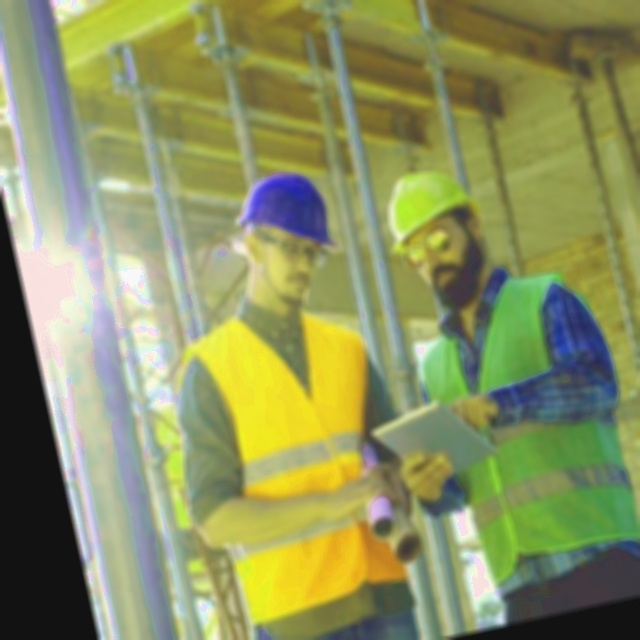Con_Casco: (228, 163, 347, 311)
Con_Chaleco: (165, 294, 427, 627), (408, 268, 640, 576)
